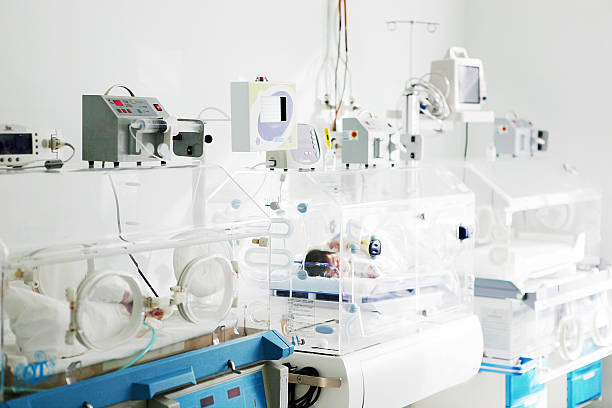bedside_monitor: (429, 45, 487, 110)
electrosurgical_unit: (493, 111, 549, 157)
incubator: (1, 157, 266, 379), (212, 162, 477, 384), (430, 148, 610, 372)
iv_pole: (388, 19, 436, 161)
patient: (303, 250, 396, 282)
